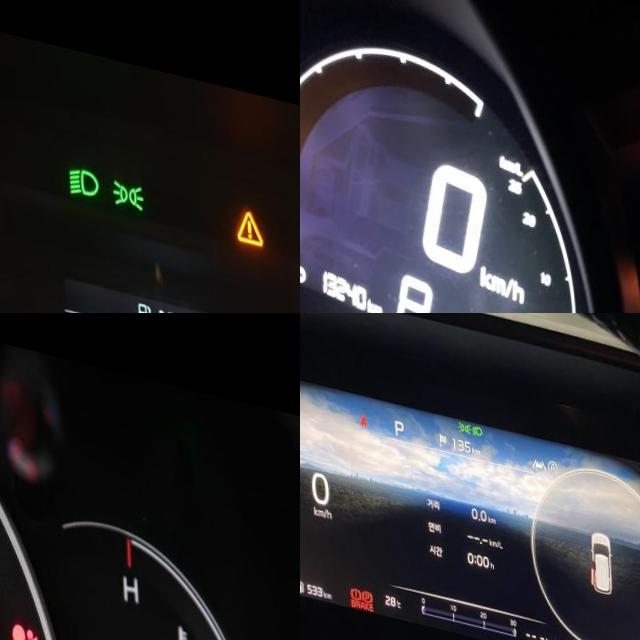Central Warning lamp: (233, 186, 262, 225)
Low beam: (66, 151, 99, 188), (469, 407, 480, 421)
SideLamp: (110, 162, 143, 196), (454, 404, 469, 419)
